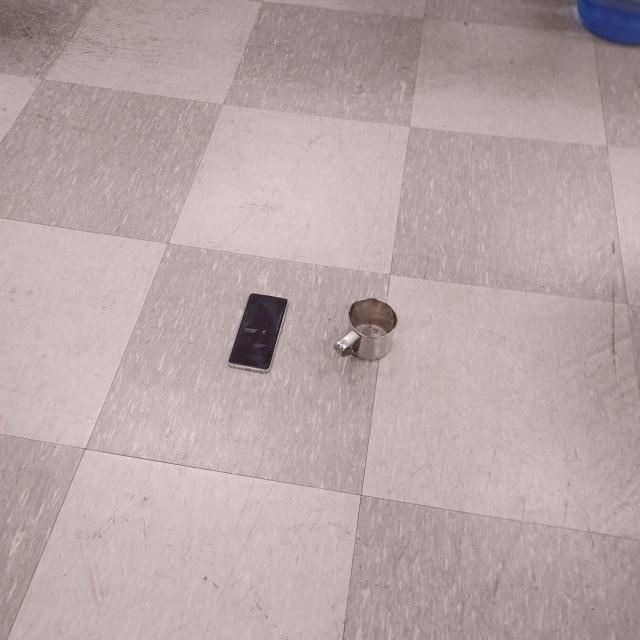cup: (334, 297, 397, 363)
phone: (229, 291, 288, 375)
